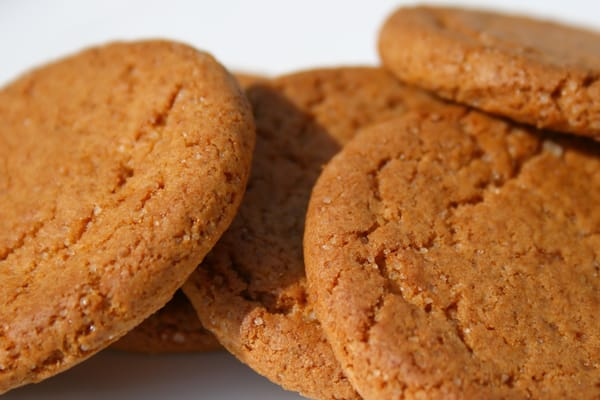soup: (376, 5, 599, 142)
